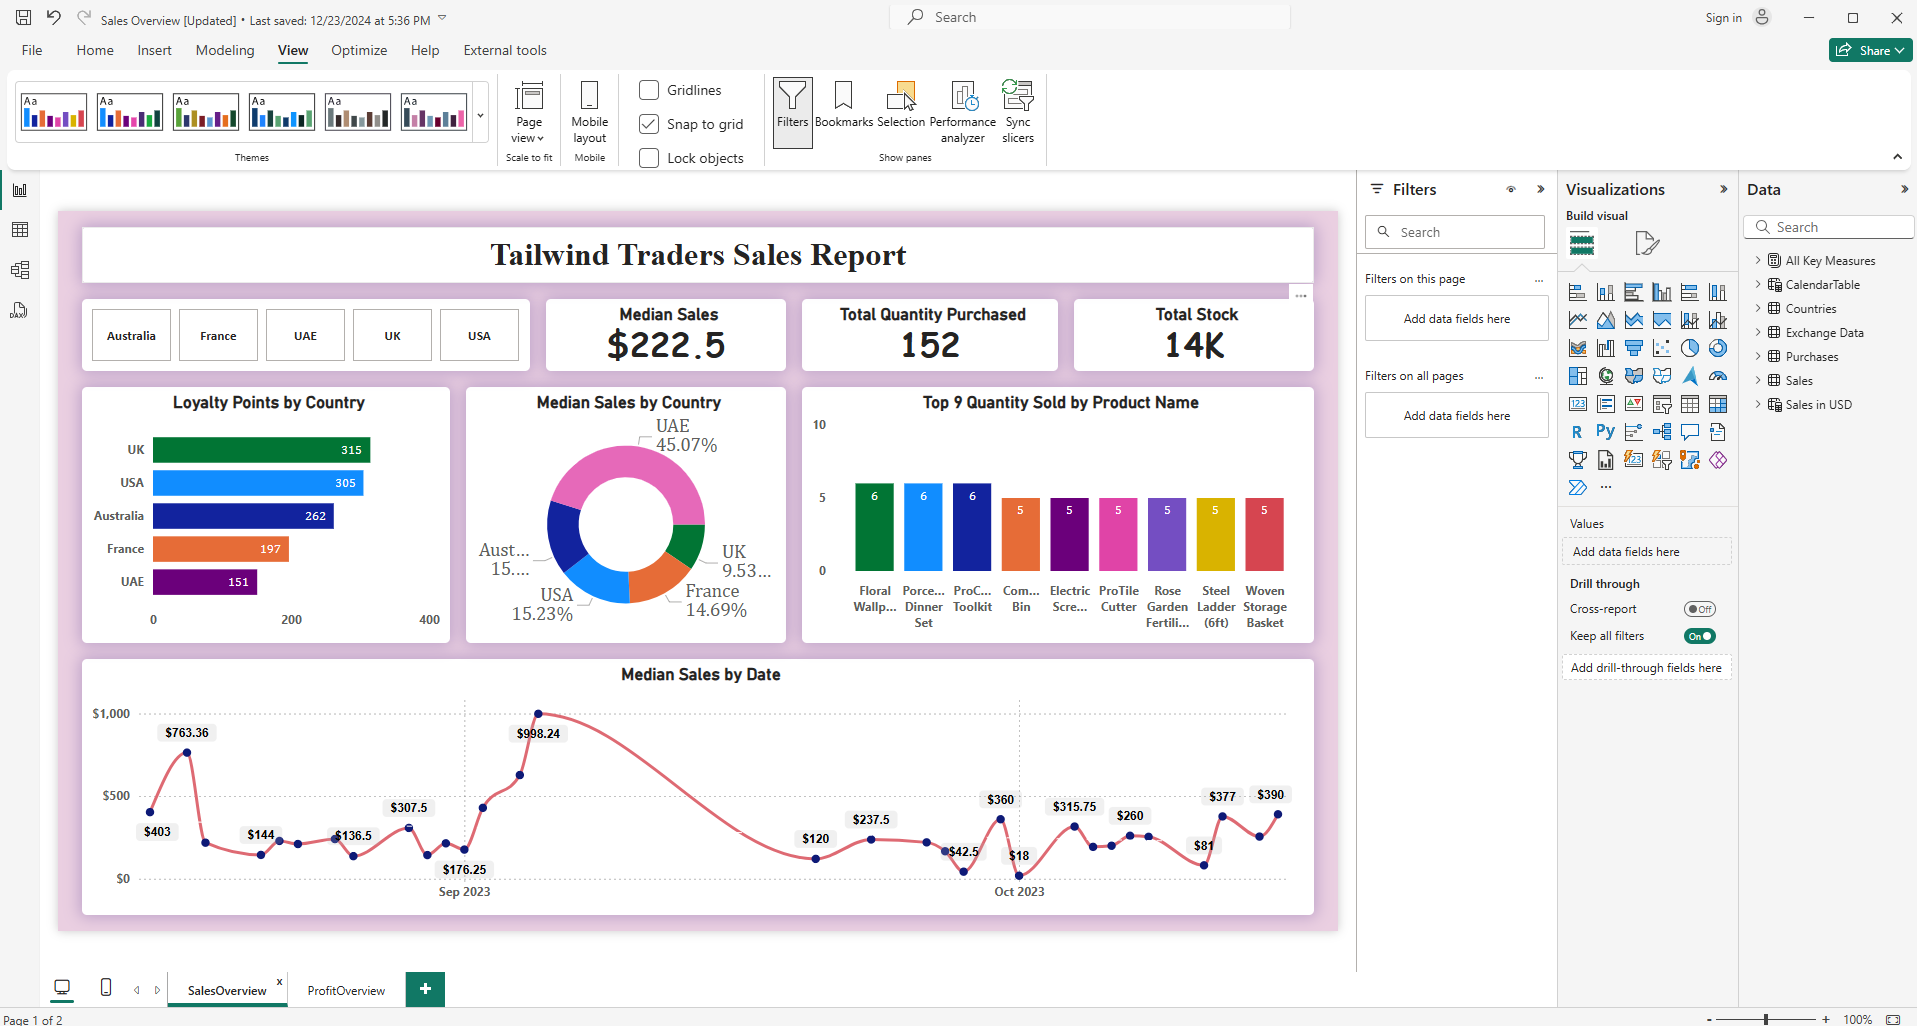

What the dashboard file says about the page in this screenshot:
{"tool":"powerbi","page":{"name":"SalesOverview","canvas":[1280,720],"ordinal":0},"visuals":[{"type":"card","title":"Total Stock","fields":{"Values":["Sum(Sales. Stock  )"]},"box":[1016,88,240,72],"z":0,"group":"g2"},{"type":"columnChart","title":"Top 9 Quantity Sold by Product Name","fields":{"Y":["Sum(Sales in USD.Quantity Purchased)"],"Category":["Sales.Product Name"],"Series":["Sales.Product Name"]},"box":[744,176,512,256],"z":0,"group":"g1"},{"type":"lineChart","title":"Median Sales by Date","fields":{"Y":["All Key Measures.Median Sales"],"Category":["CalendarTable.Date"]},"box":[24,448,1232,256],"z":0},{"type":"card","title":"Total Quantity Purchased","fields":{"Values":["Sum(Sales in USD.Quantity Purchased)"]},"box":[744,88,256,72],"z":1000,"group":"g2"},{"type":"barChart","title":"Loyalty Points by Country","fields":{"Y":["Sum(Sales in USD. Loyalty Points)"],"Category":["Countries.Country"],"Series":["Countries.Country"]},"box":[24,176,368,256],"z":1000,"group":"g1"},{"type":"donutChart","title":"Median Sales by Country","fields":{"Category":["Countries.Country"],"Y":["All Key Measures.Median Sales"]},"box":[408,176,320,256],"z":1000},{"type":"group","id":"g1","title":"Mid. Sec.","box":[24,176,1232,256],"z":1500},{"type":"group","id":"g2","title":"Top. Sec.","box":[24,88,1232,72],"z":2000},{"type":"card","title":"Median Sales","fields":{"Values":["All Key Measures.Median Sales"]},"box":[488,88,240,72],"z":2000,"group":"g2"},{"type":"textbox","title":"Title","box":[24,16,1232,56],"z":3000},{"type":"advancedSlicerVisual","fields":{"Values":["Sales in USD.Country Name"]},"box":[24,88,448,72],"z":3000,"group":"g2"}]}

Visuals, with their boxes on the page's 1280x720 design canvas (x1, y1, x2, y2). These are canvas units, not pixel positions in the 1917x1026 screenshot, which may show the page scaled, cropped or inside an application window:
"Total Stock" card: [x1=1016, y1=88, x2=1256, y2=160]
"Top 9 Quantity Sold by Product Name" columnChart: [x1=744, y1=176, x2=1256, y2=432]
"Median Sales by Date" lineChart: [x1=24, y1=448, x2=1256, y2=704]
"Total Quantity Purchased" card: [x1=744, y1=88, x2=1000, y2=160]
"Loyalty Points by Country" barChart: [x1=24, y1=176, x2=392, y2=432]
"Median Sales by Country" donutChart: [x1=408, y1=176, x2=728, y2=432]
"Mid. Sec." group: [x1=24, y1=176, x2=1256, y2=432]
"Top. Sec." group: [x1=24, y1=88, x2=1256, y2=160]
"Median Sales" card: [x1=488, y1=88, x2=728, y2=160]
"Title" textbox: [x1=24, y1=16, x2=1256, y2=72]
advancedSlicerVisual - Sales in USD.Country Name: [x1=24, y1=88, x2=472, y2=160]
